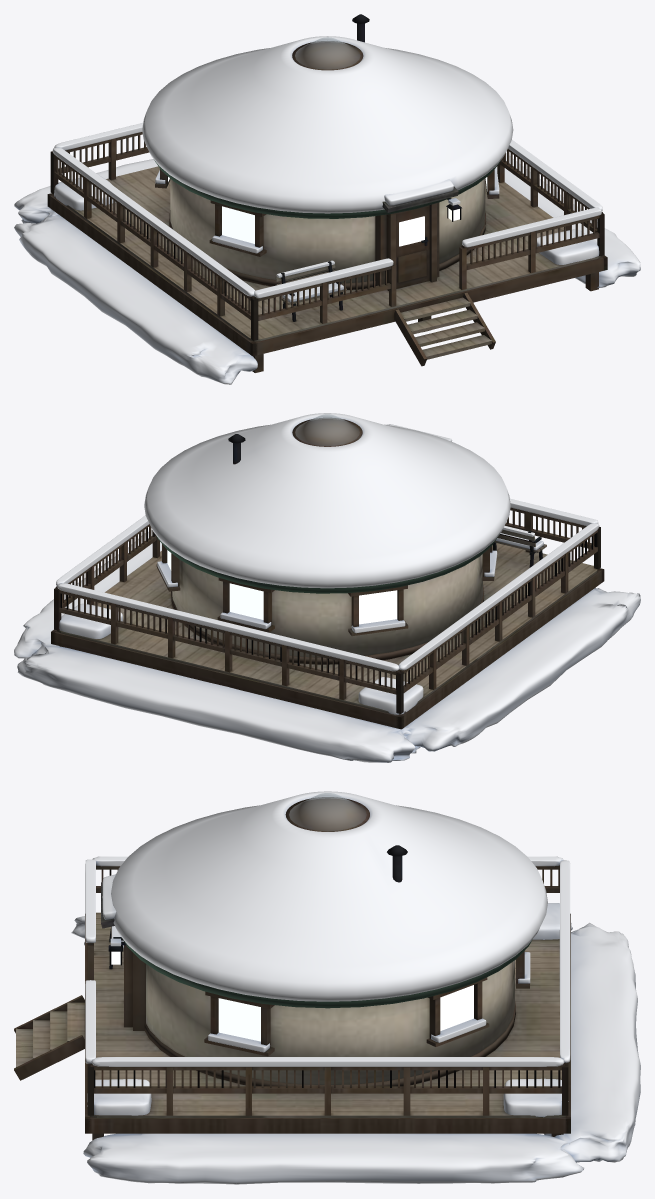
File: yurt.glb
3 renders of one model, top to bottom at view 1: azimuth 30°, elevation 25°; view 2: azimuth 150°, elevation 25°; view 3: azimuth 270°, elevation 25°, orthographic. The views are drawn at different scales.
Visible parts, largest first — view 1: yurt_snow, yurt, yurt_lit, yurt_glass; view 2: yurt_snow, yurt, yurt_lit, yurt_glass; view 3: yurt_snow, yurt, yurt_lit, yurt_glass.
Boxes of the visible parts, x1=… form: yurt_snow: x1=14, y1=36, x2=640, y2=384; yurt: x1=47, y1=14, x2=607, y2=372; yurt_lit: x1=168, y1=177, x2=487, y2=246; yurt_glass: x1=295, y1=37, x2=360, y2=69; yurt_snow: x1=14, y1=413, x2=640, y2=762; yurt: x1=51, y1=418, x2=604, y2=729; yurt_lit: x1=167, y1=550, x2=397, y2=624; yurt_glass: x1=295, y1=414, x2=359, y2=445; yurt_snow: x1=71, y1=791, x2=640, y2=1184; yurt: x1=14, y1=797, x2=570, y2=1140; yurt_lit: x1=218, y1=985, x2=473, y2=1041; yurt_glass: x1=289, y1=793, x2=366, y2=830.
Bounding box in the file's own units: 11.67 × 5.5 × 11.74.
Materials: 5 (1 with a texture image).
